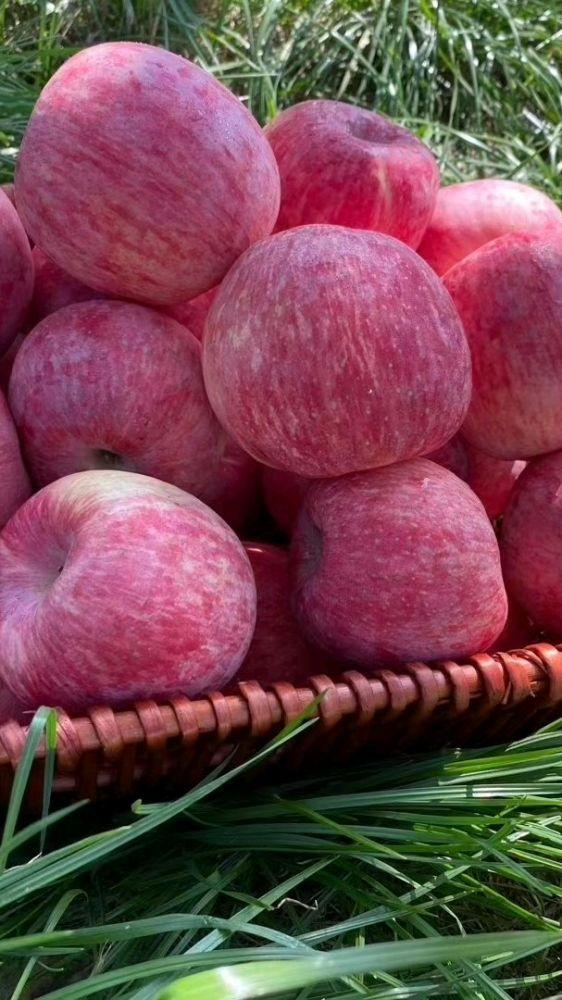apple: (9, 44, 286, 302), (204, 223, 484, 474), (4, 469, 258, 684), (13, 299, 256, 509), (290, 462, 509, 666), (264, 101, 442, 252), (416, 177, 561, 282)
